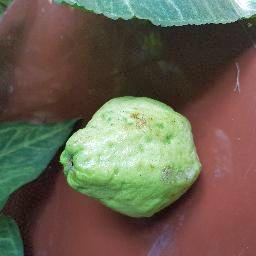guava: (62, 93, 203, 220)
